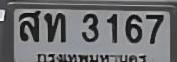1: (106, 13, 116, 42)
3: (81, 12, 98, 41)
6: (125, 13, 141, 42)
7: (145, 14, 163, 43)
A23: (44, 12, 65, 42)
A40: (18, 10, 40, 41)
